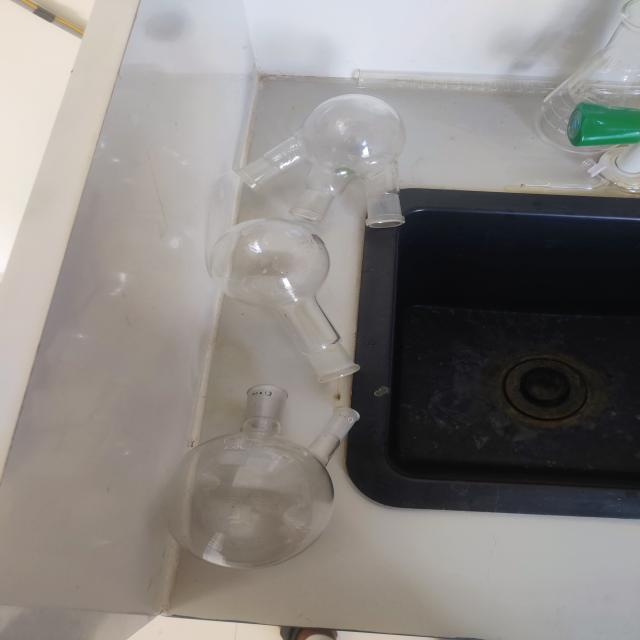Round_Bottom_Flask_Borosilicate_Glass_1_Neck: (192, 218, 400, 387)
Round_Bottom_Flask_Borosilicate_Glass_2_Neck: (143, 363, 403, 605)
Round_Bottom_Flask_Borosilicate_Glass_3_Neck: (212, 64, 461, 240)
